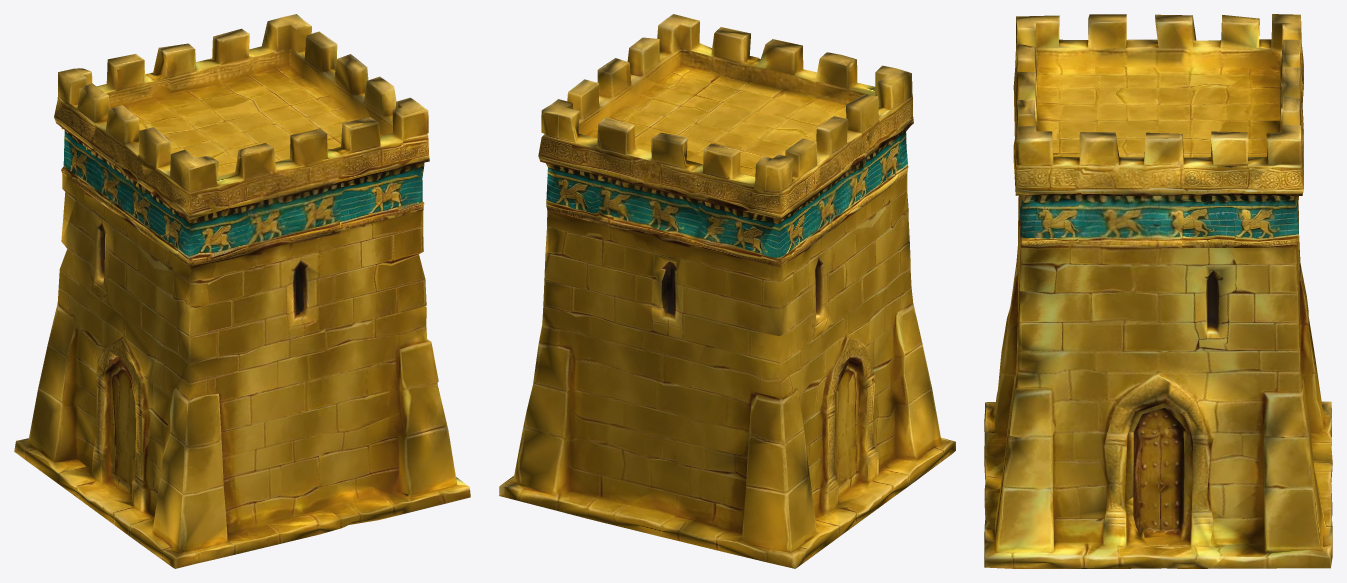
Rendered from castle_tower_short_gold.glb.
The picture shows the model from 3 angles, left to right: view 1: azimuth 30°, elevation 25°; view 2: azimuth 150°, elevation 25°; view 3: azimuth 270°, elevation 25°; orthographic projection. The views are drawn at different scales.
Parts seen in each view (by area): view 1: tripo_node_5ee5886f-85ee-4904-acae-8fec2a9aea53; view 2: tripo_node_5ee5886f-85ee-4904-acae-8fec2a9aea53; view 3: tripo_node_5ee5886f-85ee-4904-acae-8fec2a9aea53.
Boxes of the visible parts, x1=… form: tripo_node_5ee5886f-85ee-4904-acae-8fec2a9aea53: x1=14, y1=14, x2=470, y2=568; tripo_node_5ee5886f-85ee-4904-acae-8fec2a9aea53: x1=499, y1=14, x2=955, y2=568; tripo_node_5ee5886f-85ee-4904-acae-8fec2a9aea53: x1=984, y1=14, x2=1332, y2=568.
Bounding box in the file's own units: 0.7911 × 0.9785 × 0.7439.
Materials: 1 (1 with a texture image).
